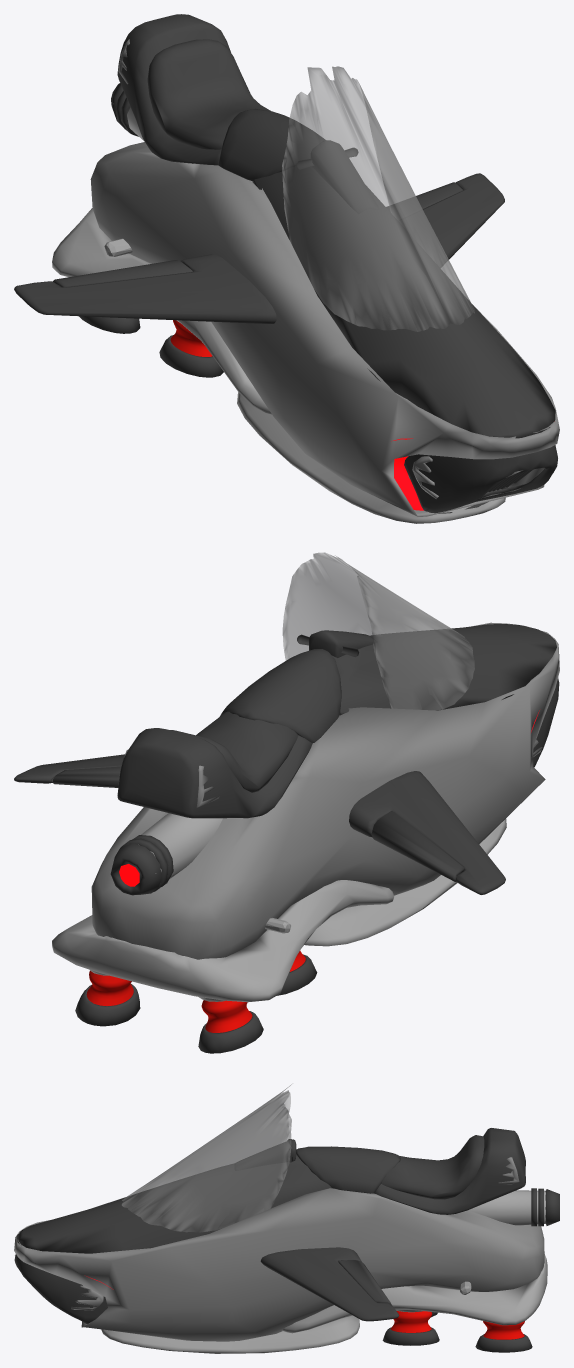
The model's file is Shox_game.glb.
The picture shows the model from 3 angles, top to bottom: view 1: azimuth 30°, elevation 25°; view 2: azimuth 150°, elevation 25°; view 3: azimuth 270°, elevation 25°; orthographic projection. The views are drawn at different scales.
Parts seen in each view (by area): view 1: body_paint_base_game, body_paint_accent_1_game, body_glass_game, body_paint_metal_game, body_paint_accent_2_game, body_light_glow_game; view 2: body_paint_base_game, body_paint_accent_1_game, body_paint_metal_game, body_glass_game, body_paint_accent_2_game; view 3: body_paint_accent_1_game, body_paint_base_game, body_glass_game, body_paint_metal_game, body_paint_accent_2_game.
Part boxes in pixels (x1,y1,x2,y2): body_paint_base_game: (14, 14, 557, 513); body_paint_accent_1_game: (90, 39, 559, 516); body_glass_game: (282, 66, 474, 331); body_paint_metal_game: (52, 103, 505, 523); body_paint_accent_2_game: (170, 320, 212, 356); body_light_glow_game: (391, 438, 423, 510); body_paint_base_game: (14, 624, 559, 1053); body_paint_accent_1_game: (91, 622, 559, 959); body_paint_metal_game: (52, 813, 506, 1002); body_glass_game: (282, 552, 474, 710); body_paint_accent_2_game: (86, 950, 305, 1032); body_paint_accent_1_game: (14, 1157, 544, 1341); body_paint_base_game: (14, 1128, 559, 1352); body_glass_game: (122, 1083, 292, 1232); body_paint_metal_game: (101, 1190, 547, 1353); body_paint_accent_2_game: (390, 1311, 524, 1339).
Size of what is drawn, in the model's own units: 2.7 by 2.04 by 4.01.
